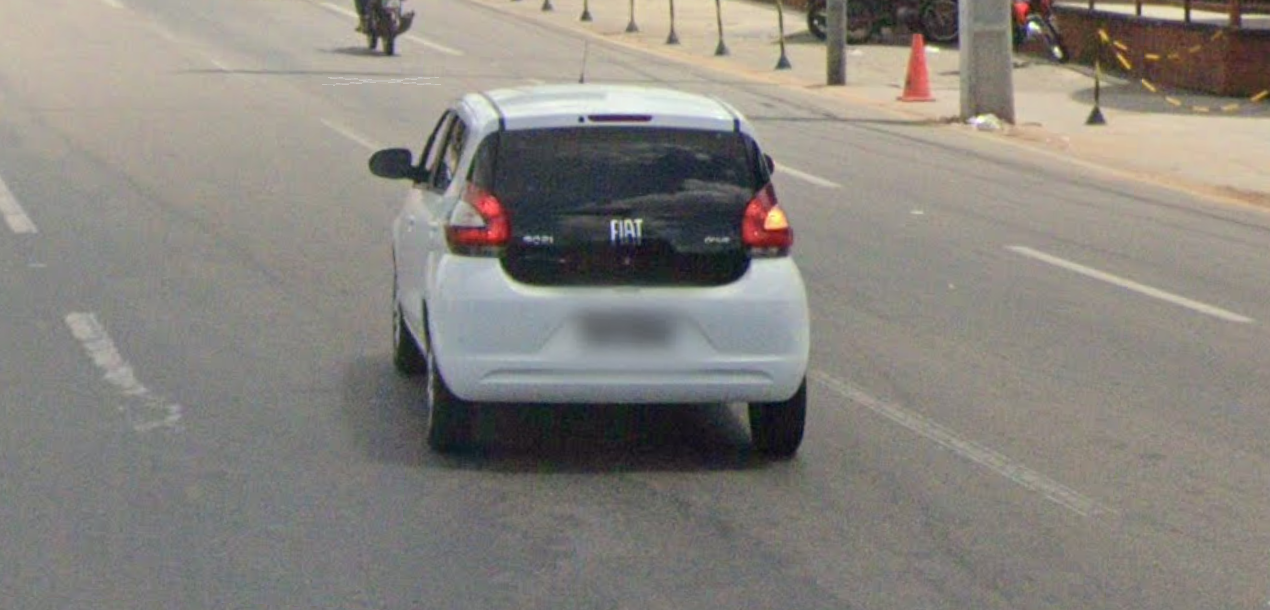car: (354, 40, 850, 464)
